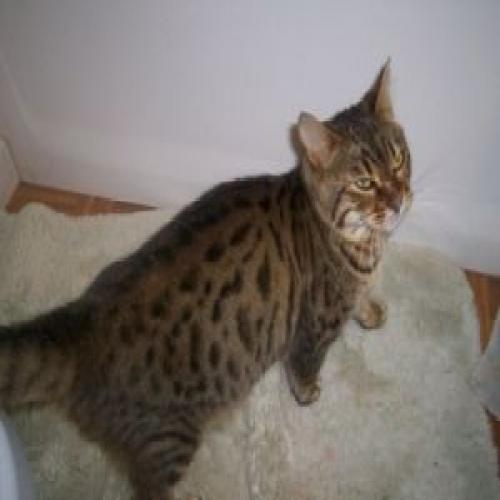cat-face: (272, 65, 441, 248)
